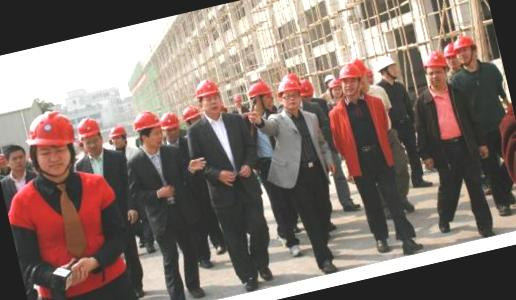no_helmet: (1, 137, 34, 180)
